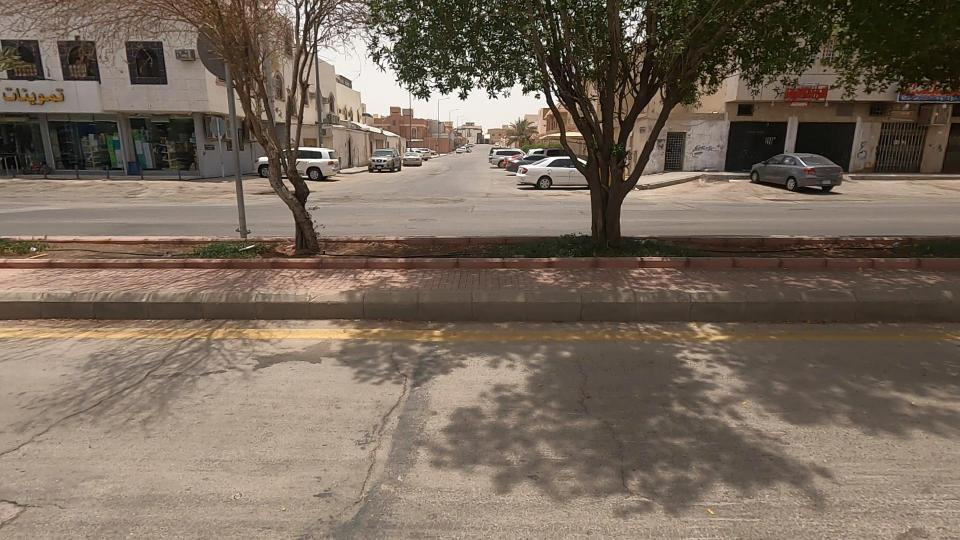GARBAGE: (209, 230, 285, 270), (0, 228, 63, 267)
